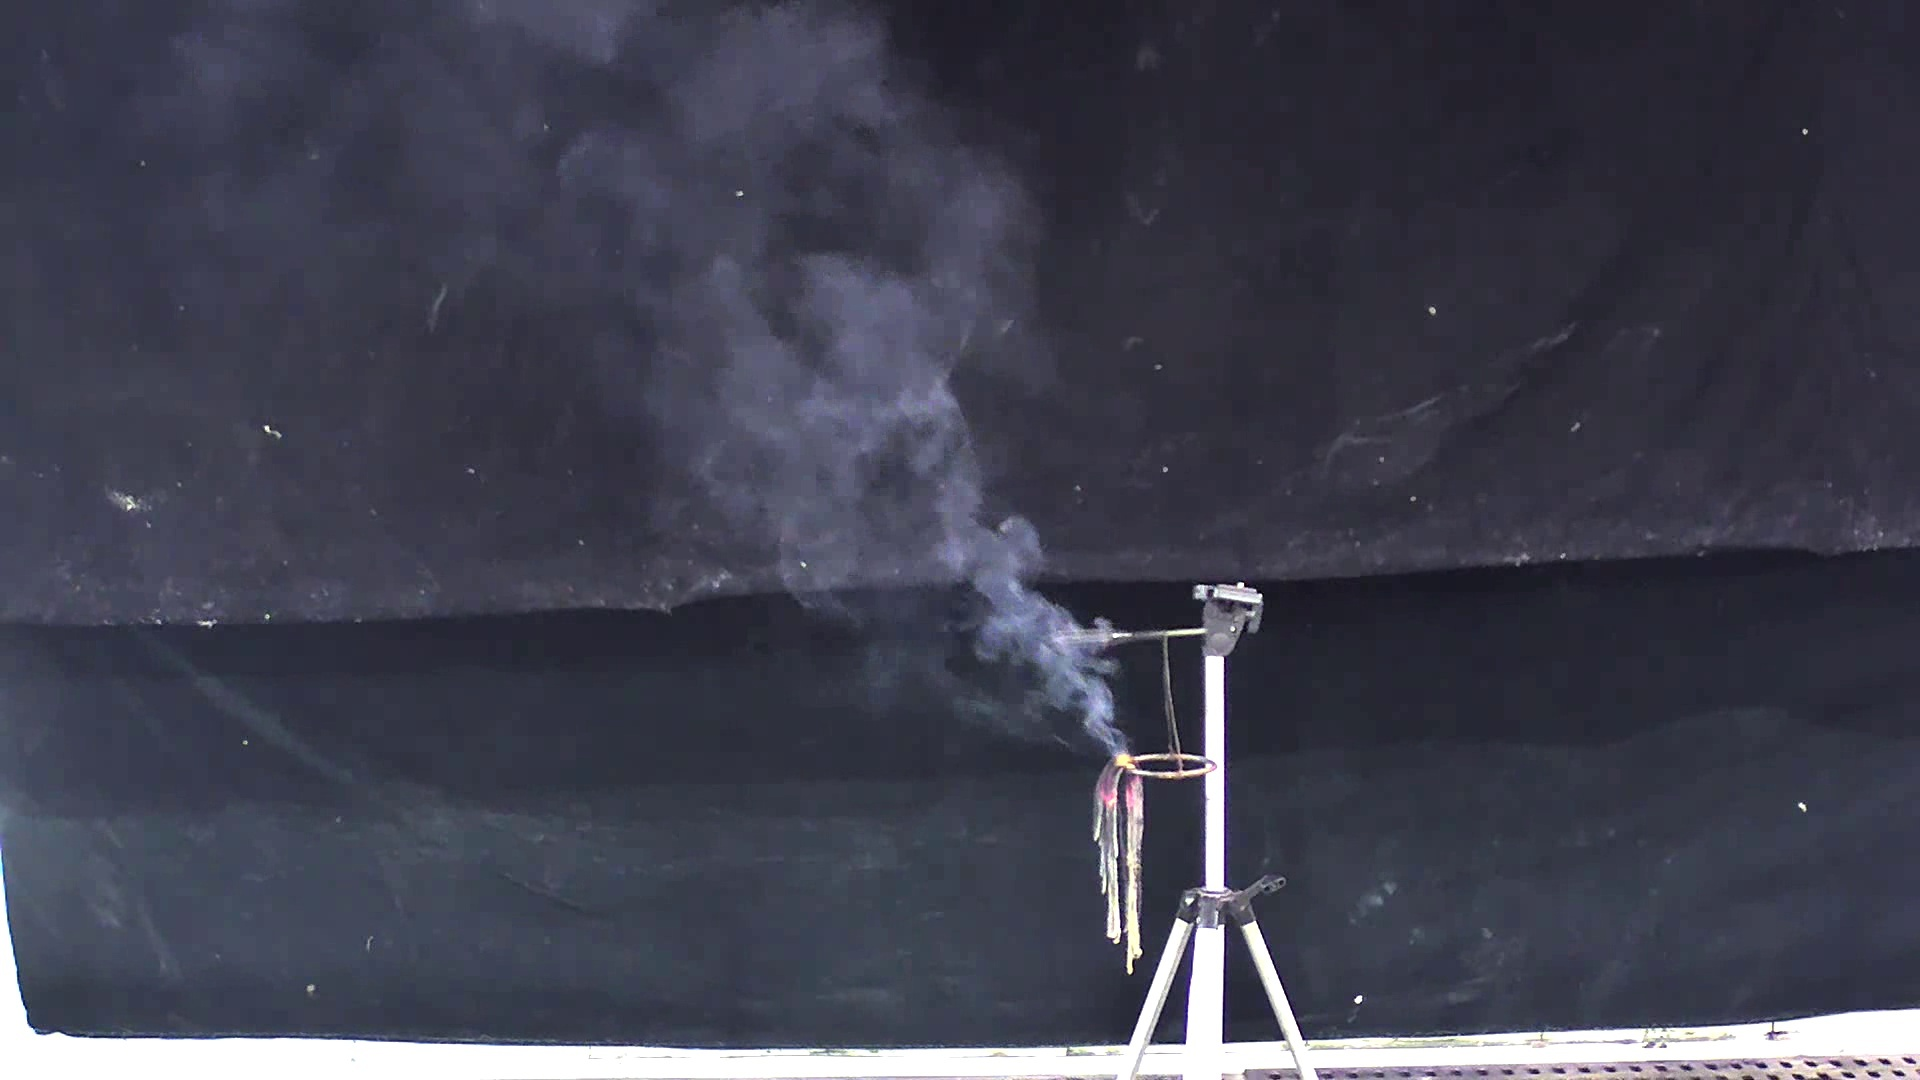smoke: (415, 18, 1145, 766)
